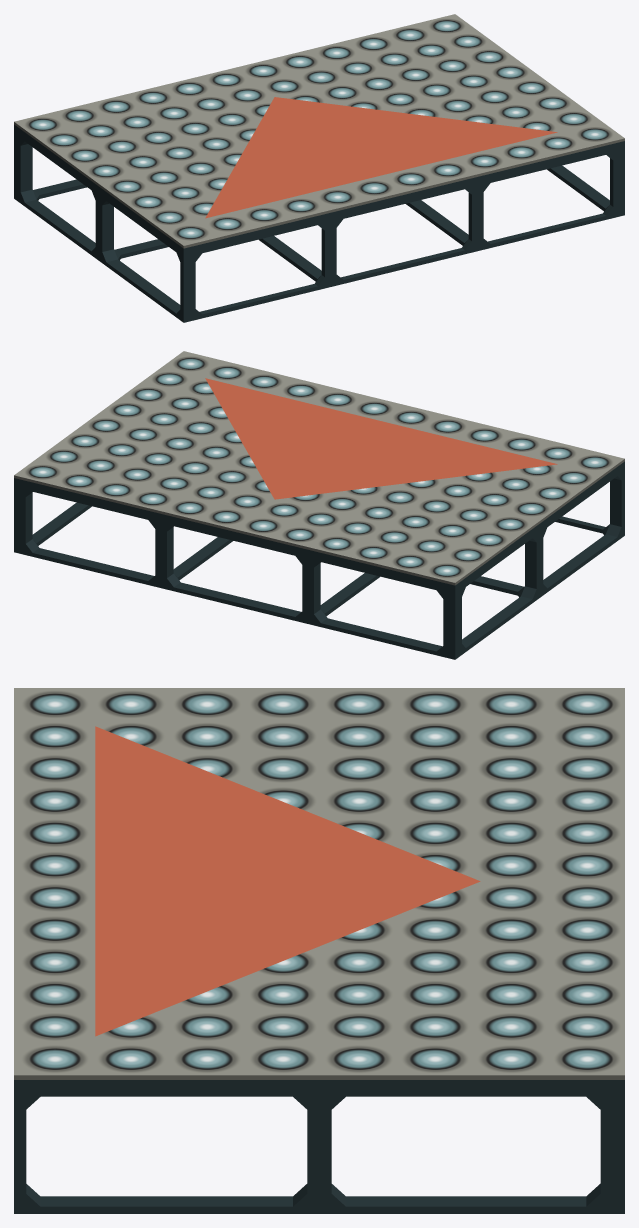
File: CA_150_151_152_cosmodrome_landing_floor_arrow.glb
3 renders of one model, top to bottom at view 1: azimuth 30°, elevation 25°; view 2: azimuth 150°, elevation 25°; view 3: azimuth 270°, elevation 25°, orthographic. The views are drawn at different scales.
Parts seen in each view (by area): view 1: floor_small, metallic_structure_small, arrow_mark; view 2: floor_small, metallic_structure_small, arrow_mark; view 3: floor_small, arrow_mark, metallic_structure_small.
Part boxes in pixels (left/top/right/bottom): floor_small: left=14, top=14, right=624, bottom=248; metallic_structure_small: left=14, top=124, right=624, bottom=322; arrow_mark: left=205, top=97, right=557, bottom=218; floor_small: left=14, top=351, right=624, bottom=585; metallic_structure_small: left=14, top=461, right=624, bottom=659; arrow_mark: left=205, top=378, right=557, bottom=499; floor_small: left=14, top=688, right=624, bottom=1079; arrow_mark: left=95, top=726, right=480, bottom=1036; metallic_structure_small: left=14, top=1080, right=624, bottom=1213.
Size of the model in its own units: 2.25 by 0.376 by 1.5.
Materials: 4 (1 with a texture image).
